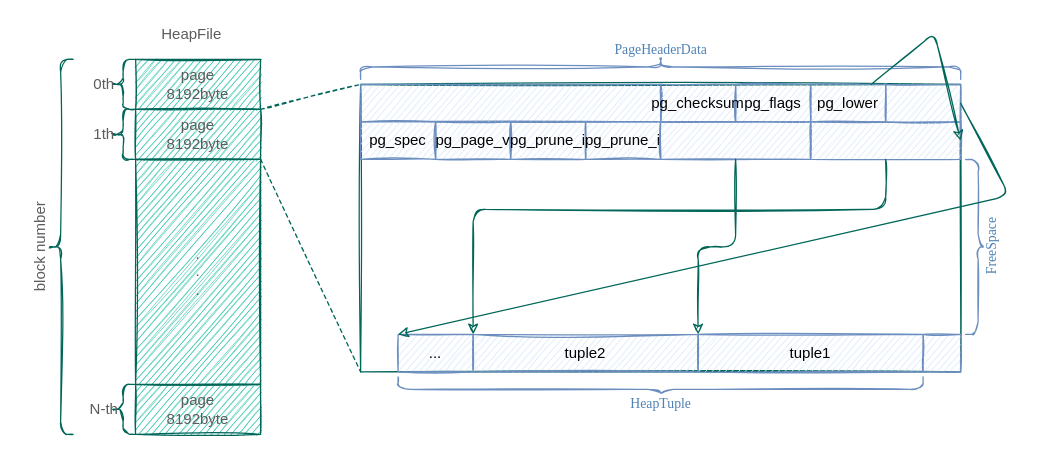
The diagram is 1056 pixels wide and 456 high, and some of its shapes have lost their labels. The shapes that lost their labels are listed below. From the top down, each one's centre as x and y in pixels, then its label:
point 510,102: pd_lsn
point 922,102: pg_upper
point 735,140: pg_linp 0
point 885,140: pg_linp 1
point 941,352: spec
